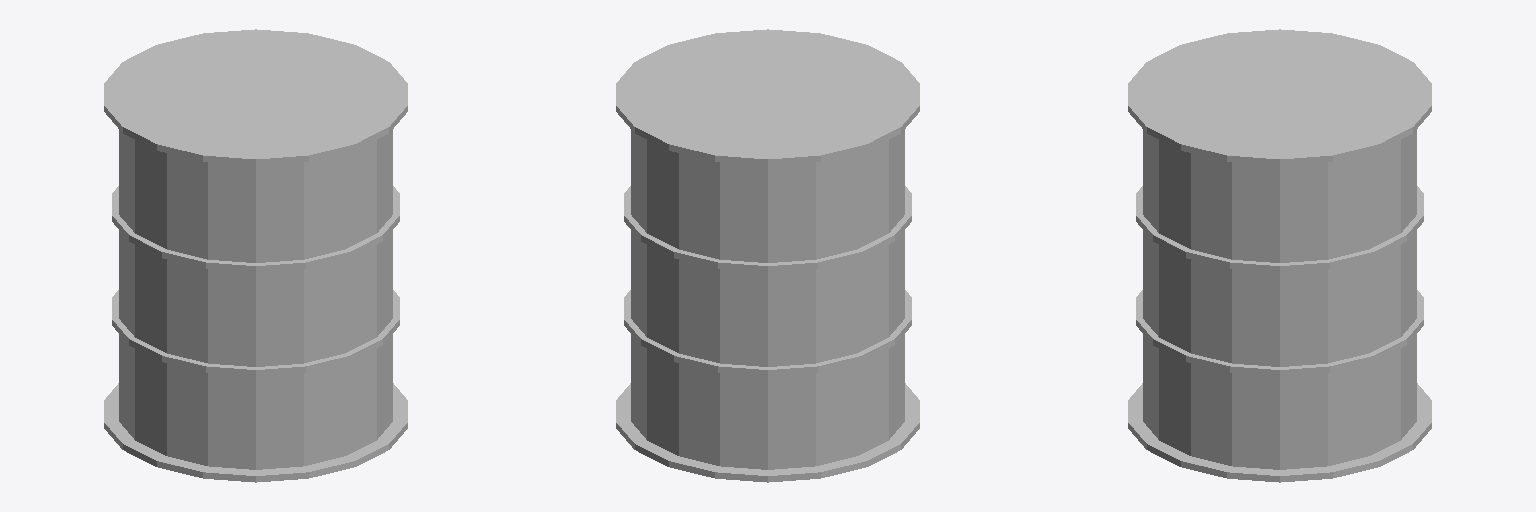
File: bochka.obj
3 views of the same model, side by side, from view 1: azimuth 30°, elevation 25°; view 2: azimuth 150°, elevation 25°; view 3: azimuth 270°, elevation 25° (orthographic).
Visible parts, largest first — view 1: Cylinder005; view 2: Cylinder005; view 3: Cylinder005.
Part boxes in pixels (bbox=[...]): Cylinder005: bbox=[104, 29, 407, 482]; Cylinder005: bbox=[616, 29, 919, 482]; Cylinder005: bbox=[1128, 29, 1431, 482].
Size of the model in its own units: 13.32 by 15.43 by 13.12.